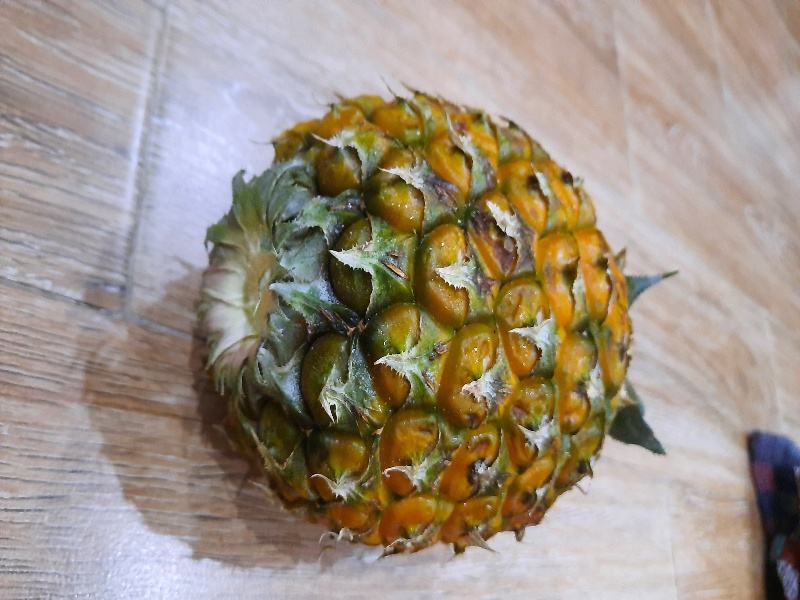fruit: (195, 90, 664, 555)
